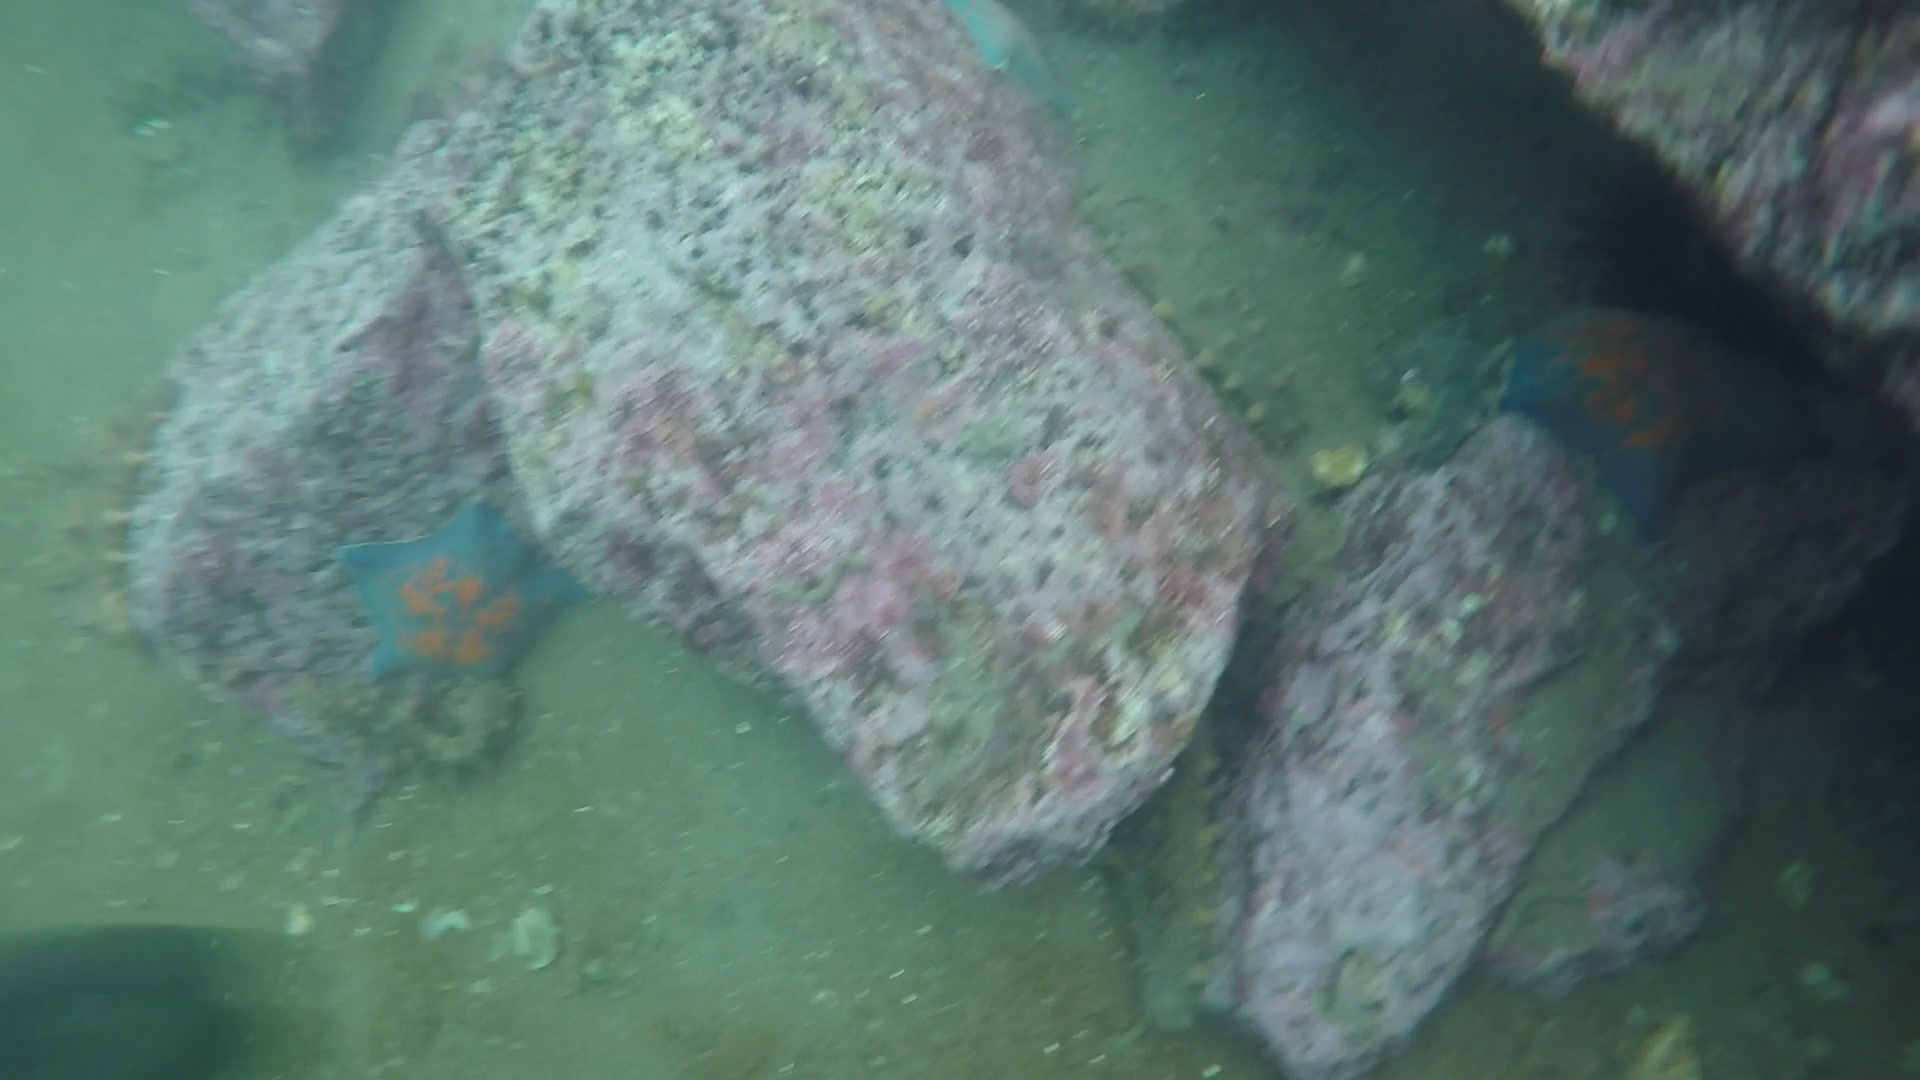holothurian: (1084, 189, 1319, 447), (1122, 698, 1238, 1029), (58, 369, 182, 659), (105, 36, 268, 131)
starfish: (1498, 297, 1867, 531), (339, 495, 593, 698), (945, 1, 1096, 121)
